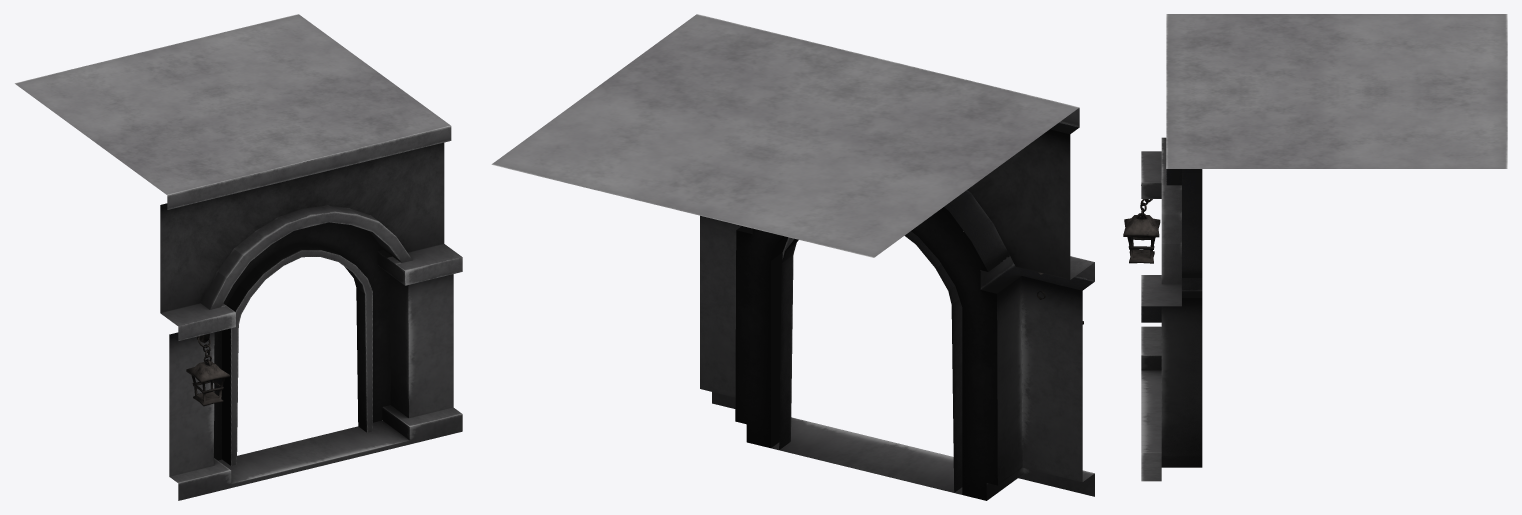
The model's file is DoorExit.fbx.
3 views of the same model, side by side, from view 1: azimuth 30°, elevation 25°; view 2: azimuth 150°, elevation 25°; view 3: azimuth 270°, elevation 25° (orthographic). The views are drawn at different scales.
Visible parts, largest first — view 1: Ground_LP.005_Cube.001; view 2: Ground_LP.005_Cube.001; view 3: Ground_LP.005_Cube.001.
Part boxes in pixels (x1=…): Ground_LP.005_Cube.001: x1=14, y1=14, x2=462, y2=500; Ground_LP.005_Cube.001: x1=491, y1=14, x2=1094, y2=500; Ground_LP.005_Cube.001: x1=1123, y1=14, x2=1507, y2=481.
Size of the model in its own units: 100 by 100 by 105.
